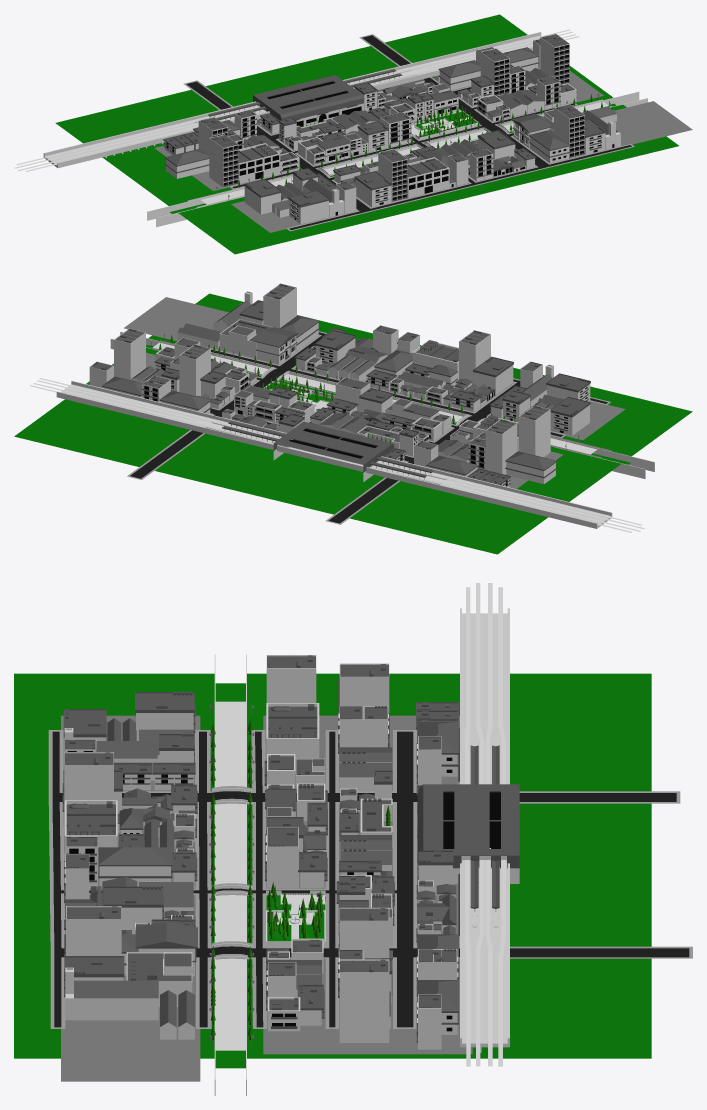
File: town.fbx
The picture shows the model from 3 angles, top to bottom: view 1: azimuth 30°, elevation 25°; view 2: azimuth 150°, elevation 25°; view 3: azimuth 270°, elevation 25°; orthographic projection. The views are drawn at different scales.
Visible parts, largest first — view 1: Plane002, Plane003, Box043, Box100, Plane027, Plane007, Box217, Box182, Box216, Box134, Box197, Plane009 (+38 smaller); view 2: Plane002, Box043, Plane003, Plane027, Box100, Plane007, Box217, Box132, Box197, Box133, Box134, Box203 (+41 smaller); view 3: Plane002, Plane003, Box043, Plane009, Plane027, Plane007, Box100, Plane029, Box197, Box136, Box216, Box134 (+44 smaller).
Part boxes in pixels (<box>): Plane002: <box>55,14,678,254</box>; Plane003: <box>183,34,634,231</box>; Box043: <box>43,32,541,167</box>; Box100: <box>253,75,363,126</box>; Plane027: <box>231,101,692,232</box>; Plane007: <box>14,29,579,171</box>; Box217: <box>209,134,238,187</box>; Box182: <box>407,157,449,198</box>; Box216: <box>238,143,280,183</box>; Box134: <box>554,103,584,158</box>; Box197: <box>540,33,569,84</box>; Plane009: <box>201,101,608,204</box>; Plane002: <box>14,293,692,554</box>; Box043: <box>56,380,612,528</box>; Plane003: <box>127,331,610,524</box>; Plane027: <box>124,297,625,440</box>; Box100: <box>273,421,394,481</box>; Plane007: <box>30,378,644,532</box>; Box217: <box>518,405,550,457</box>; Box132: <box>485,419,517,474</box>; Box197: <box>114,328,145,379</box>; Box133: <box>179,344,210,396</box>; Box134: <box>263,283,296,328</box>; Box203: <box>219,319,272,358</box>; Plane002: <box>14,673,651,1068</box>; Plane003: <box>48,730,692,1028</box>; Box043: <box>460,608,509,1047</box>; Plane009: <box>215,701,245,1050</box>; Plane027: <box>61,715,200,1081</box>; Plane007: <box>465,583,505,1066</box>; Box100: <box>417,784,519,883</box>; Plane029: <box>263,958,472,1054</box>; Box197: <box>339,959,389,1042</box>; Box136: <box>65,967,158,1020</box>; Box216: <box>266,703,319,774</box>; Box134: <box>66,906,121,955</box>.
Size of the model in its own units: 1473 by 874 by 125.
